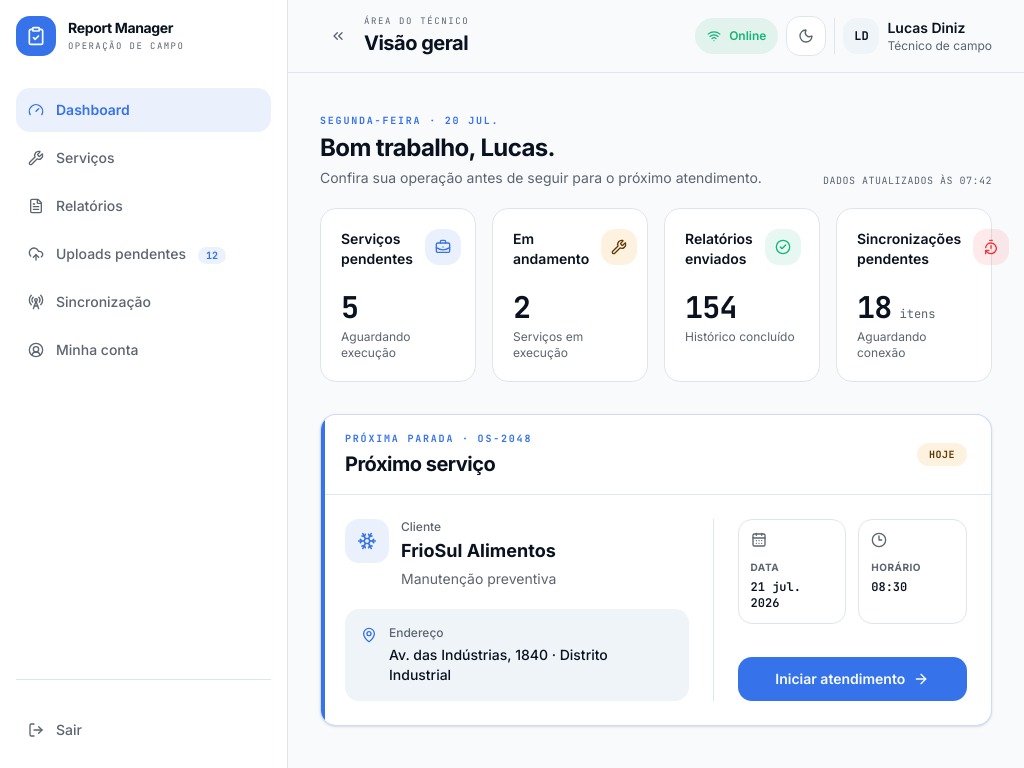
it: technician experience › keeps the sidebar control beside the technician area at every width
The width and height of the screenshot is (1024, 768).
Click the button named "Recolher menu lateral" at {"x": 338, "y": 36}, box [320,18,356,54]
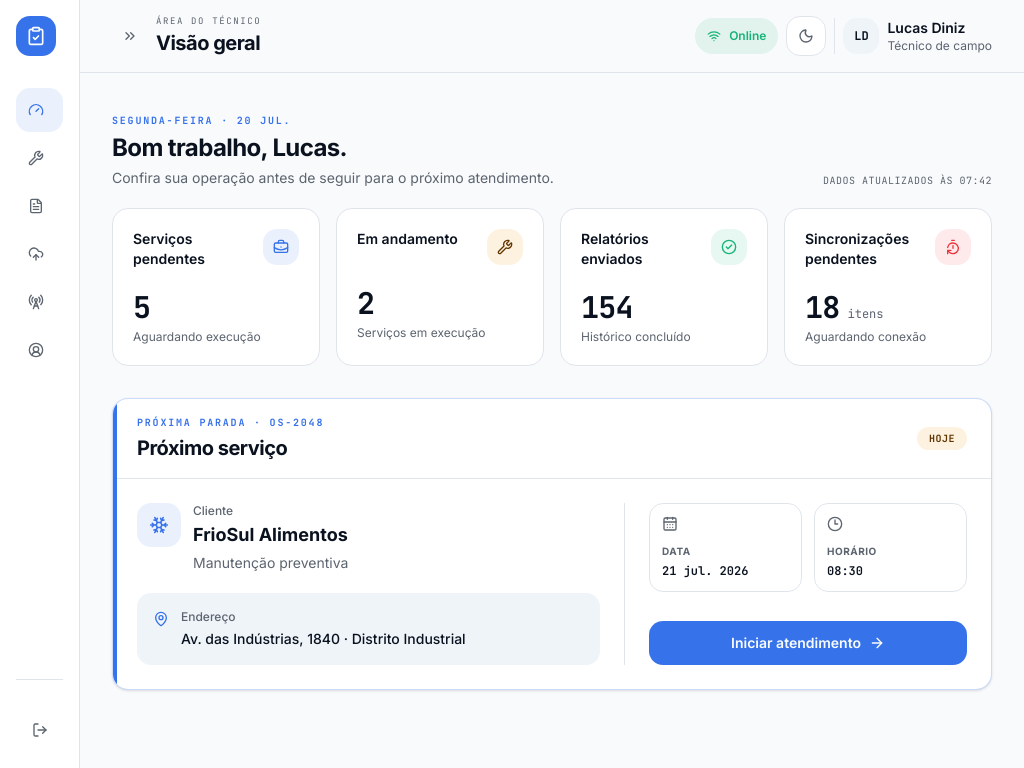
Expected: the button named "Expandir menu lateral" is shown, [112,18,148,54]
